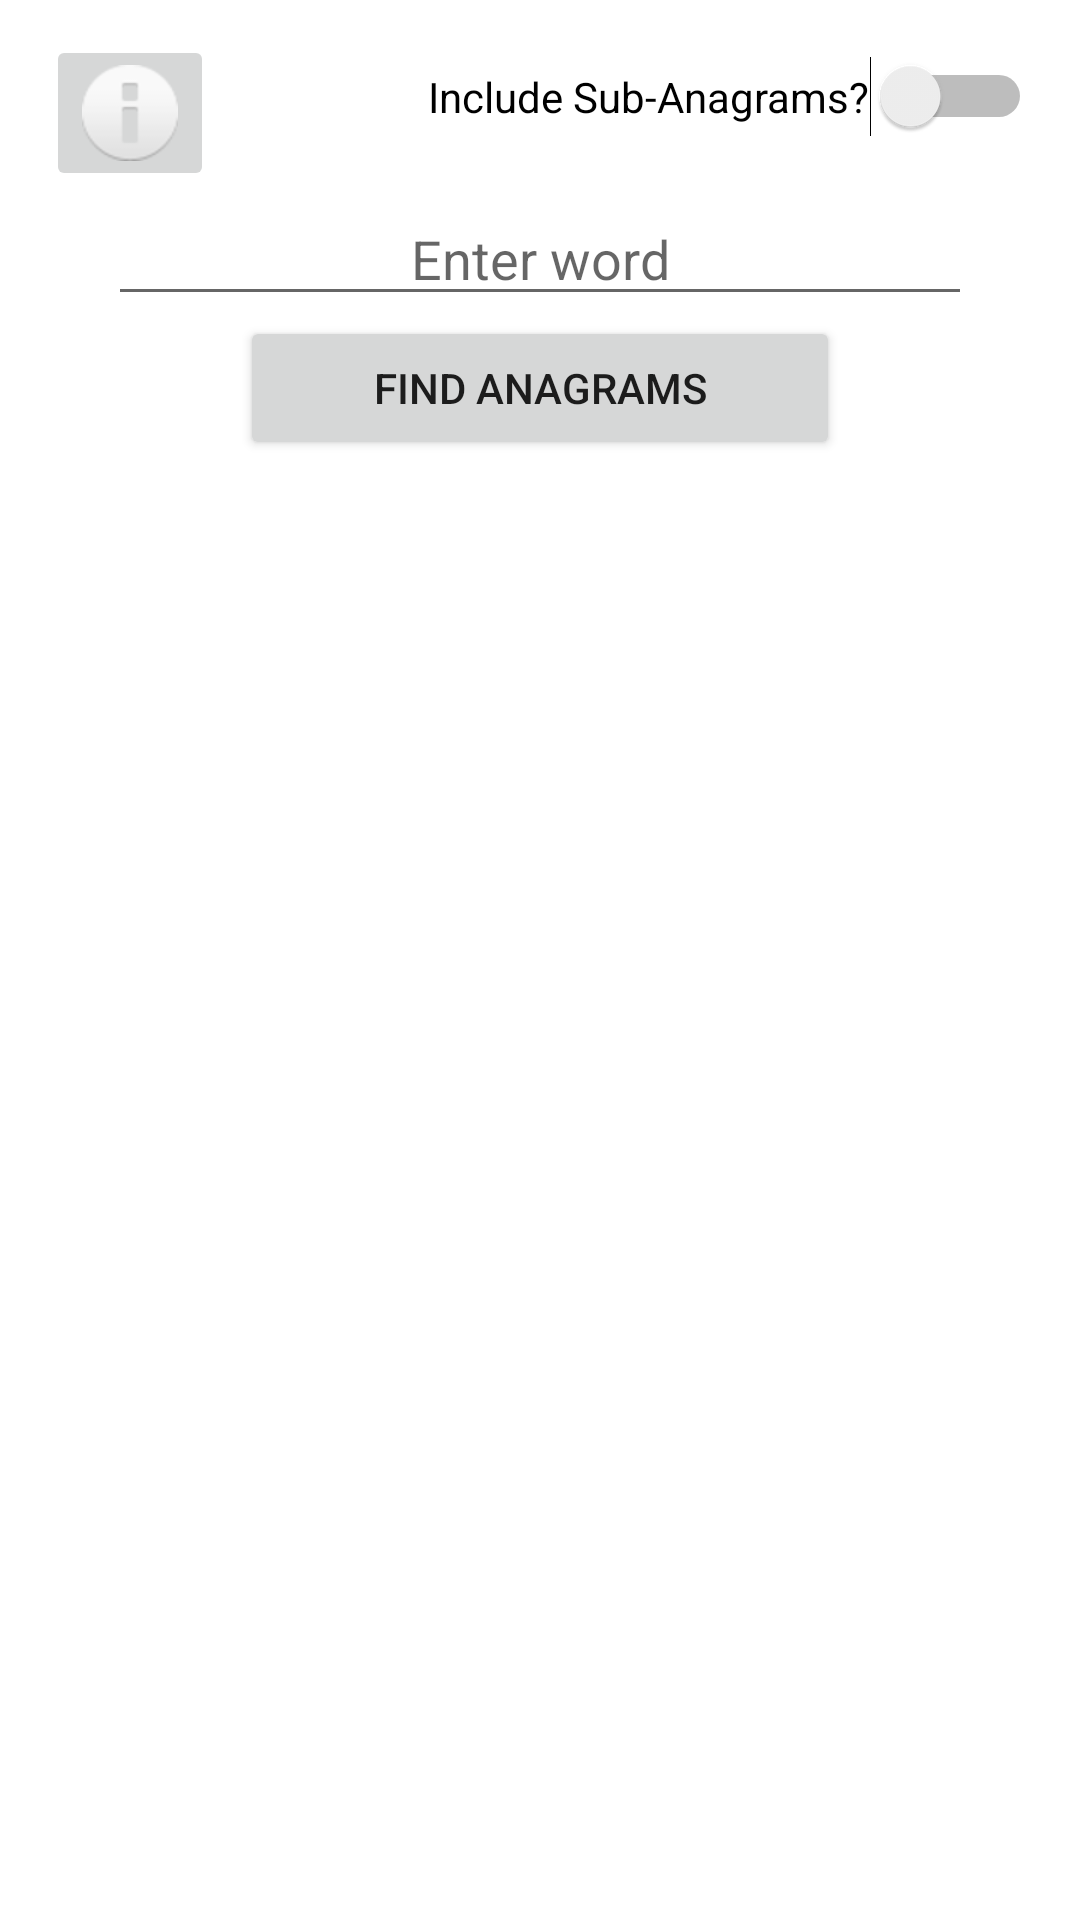

Icon click points for this 1080×1920 phone screenshot, format (x,y):
info: (130,113)
